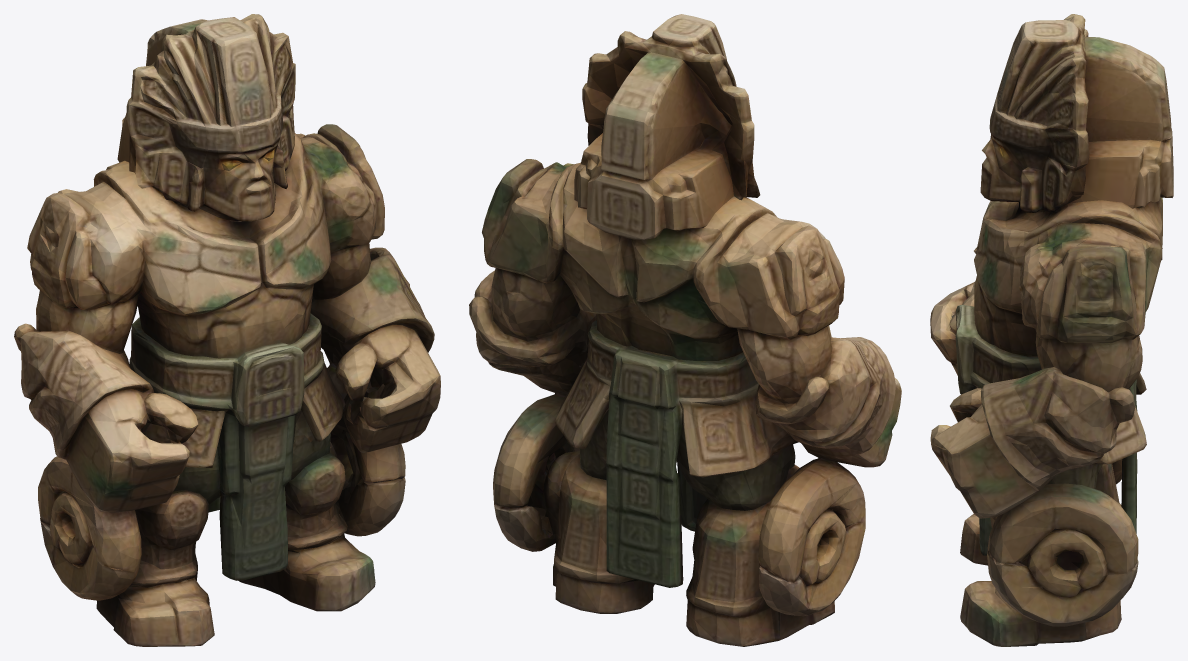
The model's file is stoneGiant.glb.
3 renders of one model, left to right at view 1: azimuth 30°, elevation 25°; view 2: azimuth 150°, elevation 25°; view 3: azimuth 270°, elevation 25°, orthographic. The views are drawn at different scales.
Parts seen in each view (by area): view 1: world; view 2: world; view 3: world.
Part boxes in pixels (<box>): world: <box>14,14,440,646</box>; world: <box>469,14,901,646</box>; world: <box>930,14,1173,646</box>.
Size of the model in its own units: 0.6969 by 0.9984 by 0.393.
Materials: 1 (1 with a texture image).
